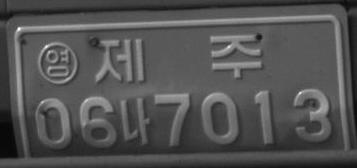0: (199, 90, 241, 146), (34, 96, 73, 152)
1: (247, 89, 285, 146)
3: (292, 87, 331, 143)
6: (78, 94, 118, 149)
7: (153, 91, 192, 148)
나: (118, 96, 152, 146)
영: (37, 41, 78, 85)
제주_D: (92, 31, 262, 81)
